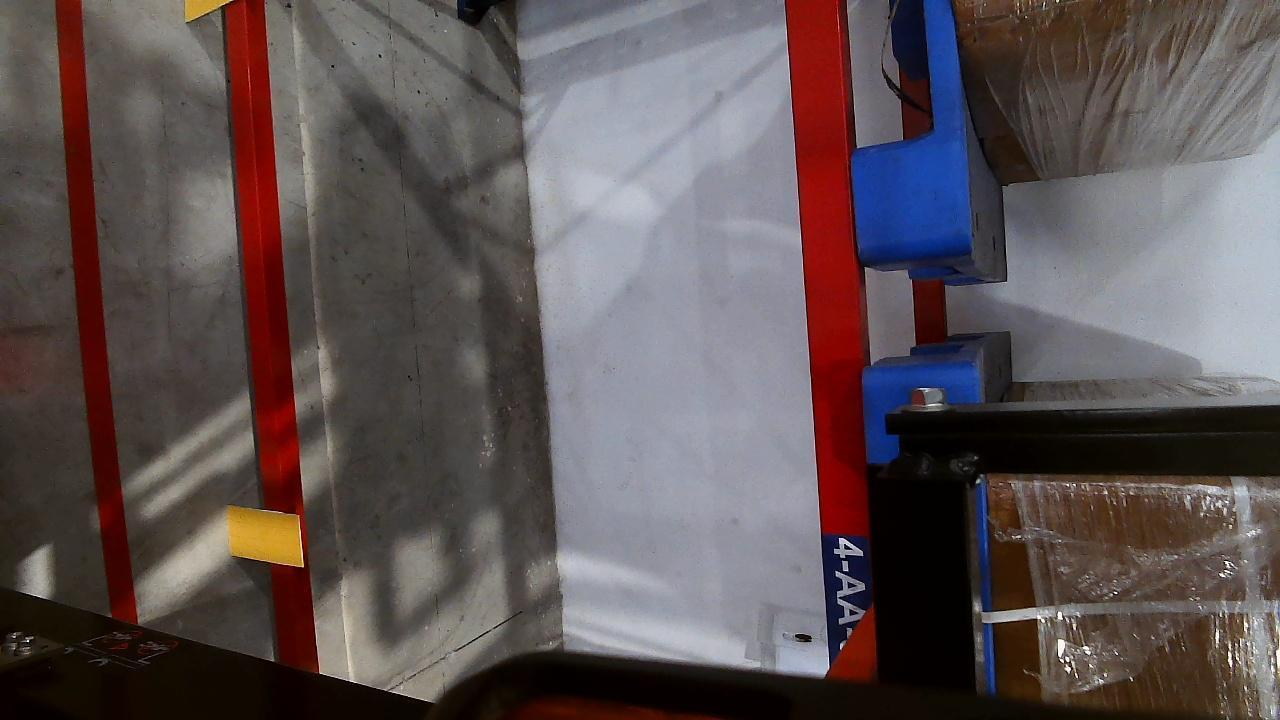red_line: (52, 2, 128, 616)
